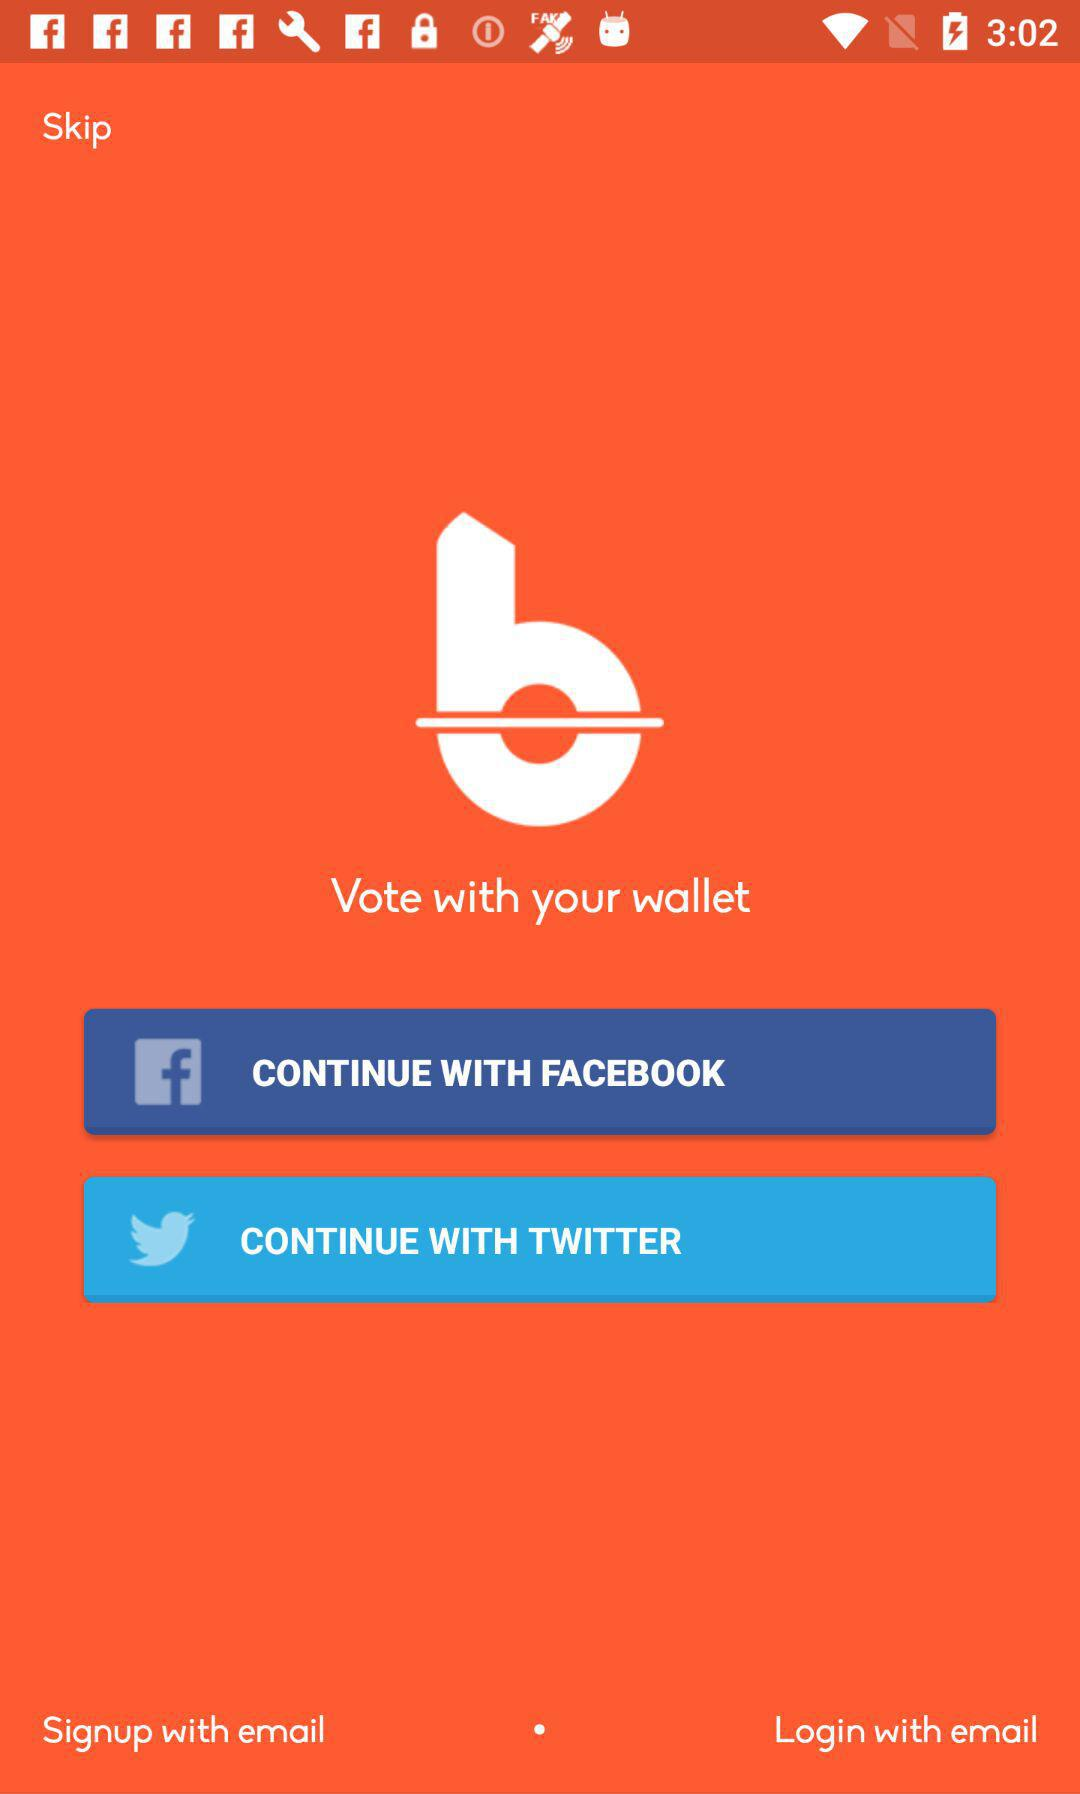Image: (415, 511, 665, 829)
Text: (329, 875, 752, 926), (44, 1715, 325, 1753), (775, 1715, 1036, 1754), (44, 111, 113, 151)
TextButton: (85, 1008, 997, 1137), (85, 1176, 997, 1304)
UpperTaskBar: (1, 1, 1080, 64)
